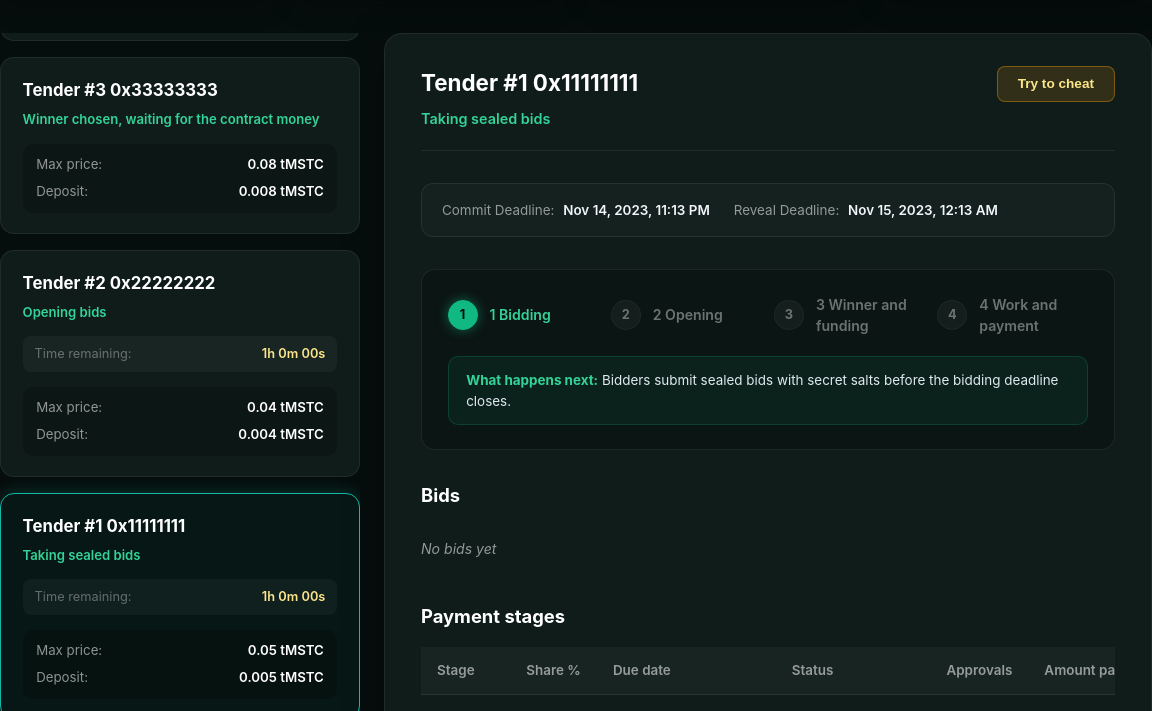
PublicAuditTab Component Tests › Cheat Test B: Additional Security Precondition Cases › Case H: distinguishes zero bids from unavailable bidder commitment data
(page scrolled)
Click the button "Try to cheat".
click(1056, 84)  # box [997,66,1115,102]
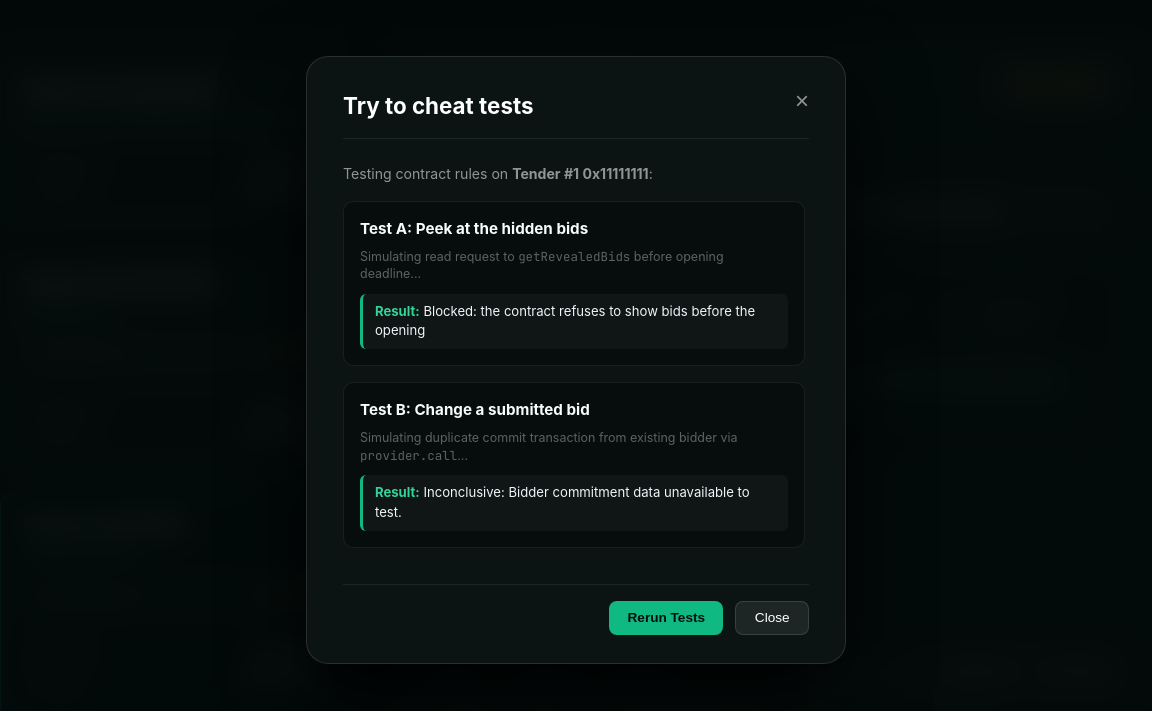
Check: the text "Inconclusive: Bidder commitment data unavailable to test." is shown, box [375,484,750,520]
